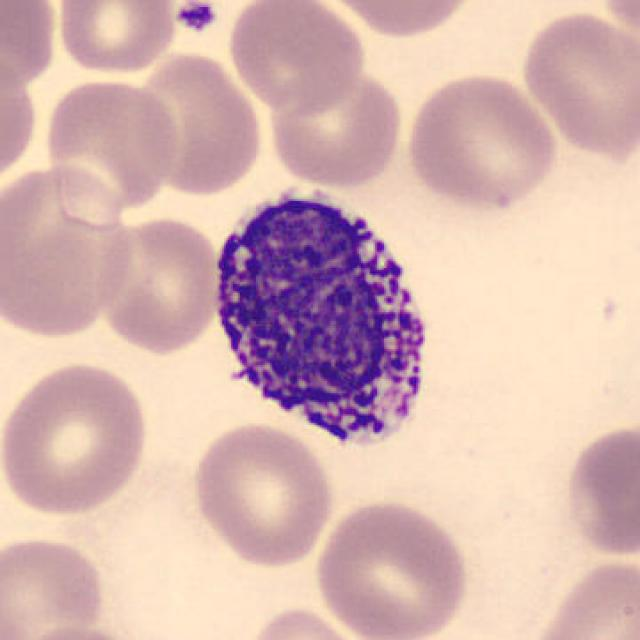Basophil: (201, 173, 446, 469)
Platelets: (172, 0, 220, 35)
RBC: (0, 159, 139, 342), (0, 358, 155, 520), (309, 495, 473, 640), (402, 69, 562, 215), (186, 420, 338, 571), (41, 74, 183, 224), (126, 46, 265, 197), (92, 212, 224, 356), (518, 7, 638, 162), (265, 67, 405, 189), (224, 0, 368, 113), (0, 530, 110, 640), (558, 420, 638, 562), (52, 0, 180, 78), (524, 553, 638, 640), (314, 0, 483, 41), (0, 0, 60, 95), (0, 51, 41, 189), (238, 604, 369, 640), (13, 622, 151, 640), (594, 0, 640, 53)
